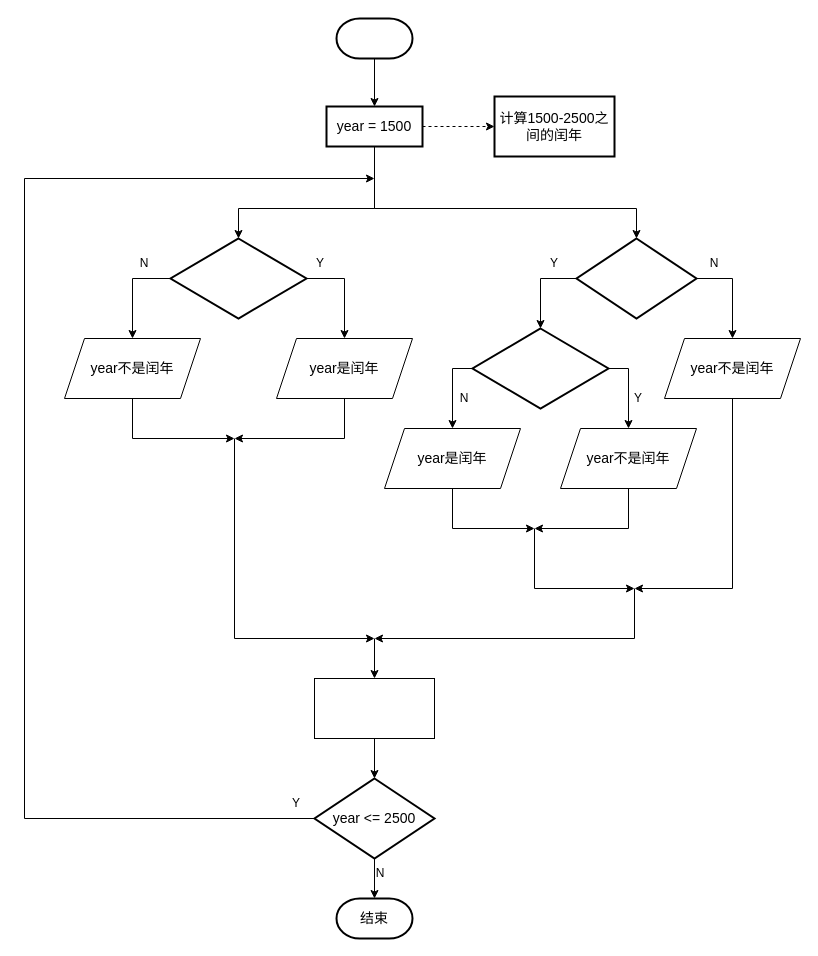
The diagram is 818 pixels wide and 956 high, and some of its shapes have lost their labels. The shapes that lost their labels are listed below. From the top down, each one's centre as x and y in pixels, then its label:
the point at 374,38: 开始
the point at 238,278: year % 400 == 0
the point at 636,278: year % 4 == 0
the point at 540,368: year % 100 == 0
the point at 374,708: year = year + 1
